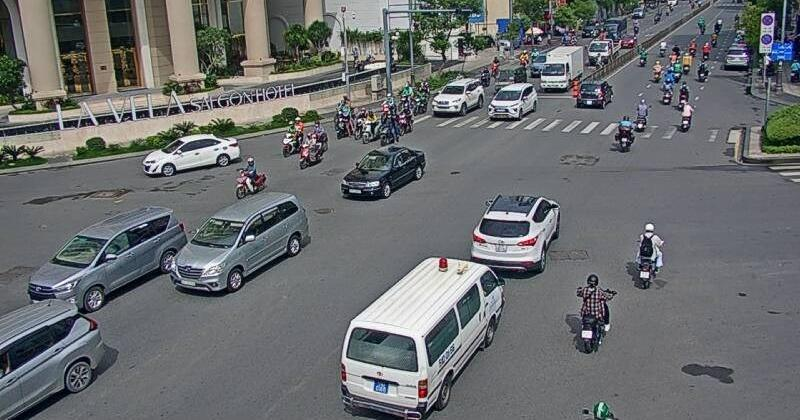xe hoi: (26, 205, 184, 311), (168, 191, 308, 298), (467, 192, 560, 274), (339, 144, 426, 200), (141, 132, 241, 179)
xe may: (573, 273, 614, 354), (236, 155, 268, 198), (299, 131, 322, 170), (281, 117, 303, 157)
xe van: (339, 256, 501, 420)
